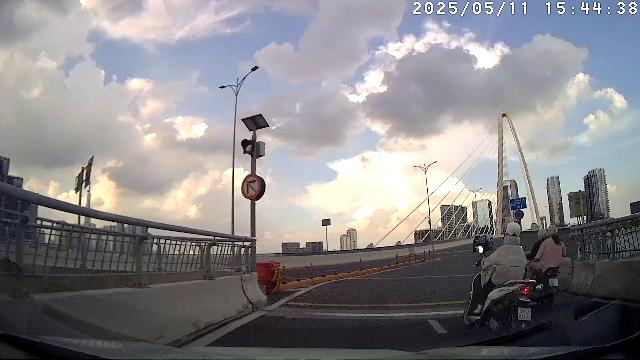123b-cam-re-phai: (240, 175, 262, 200)
